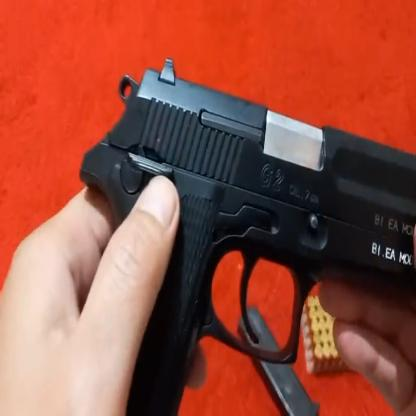handgun: (76, 59, 416, 416)
